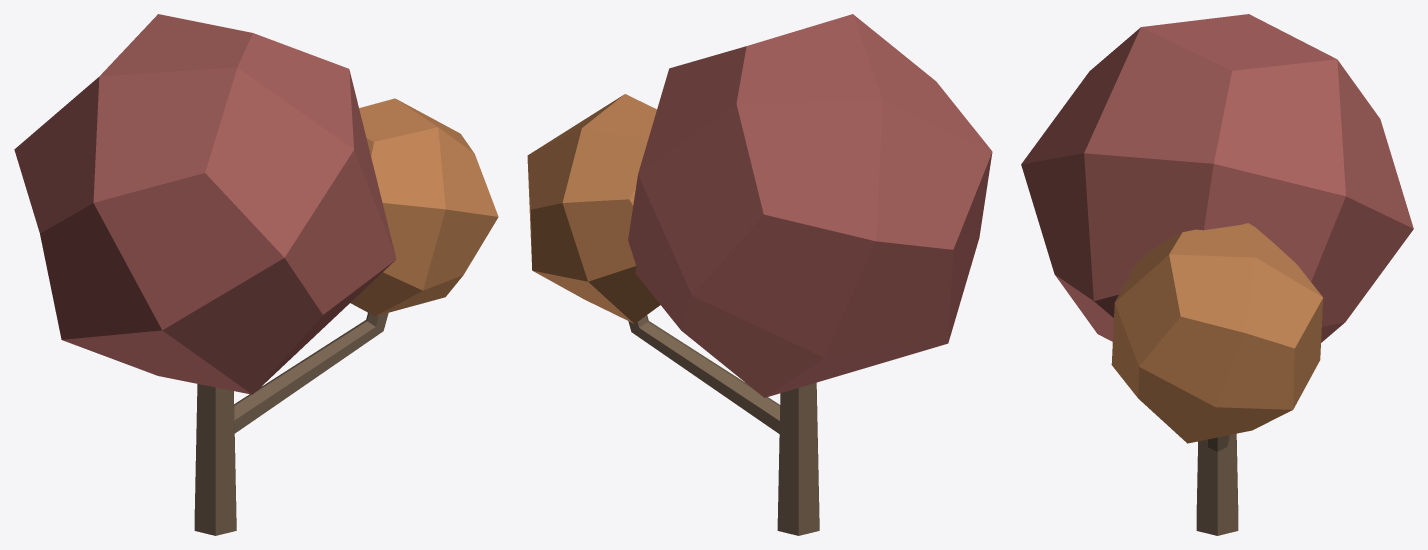
Rendered from Tree 05.fbx.
3 renders of one model, left to right at view 1: azimuth 30°, elevation 25°; view 2: azimuth 150°, elevation 25°; view 3: azimuth 270°, elevation 25°, orthographic.
Visible parts, largest first — view 1: pCylinder358; view 2: pCylinder358; view 3: pCylinder358.
Boxes of the visible parts, bbox=[...] form: pCylinder358: bbox=[14, 14, 498, 535]; pCylinder358: bbox=[527, 14, 992, 535]; pCylinder358: bbox=[1021, 14, 1413, 535].
Bounding box in the file's own units: 8.2 × 9.04 × 6.56.
